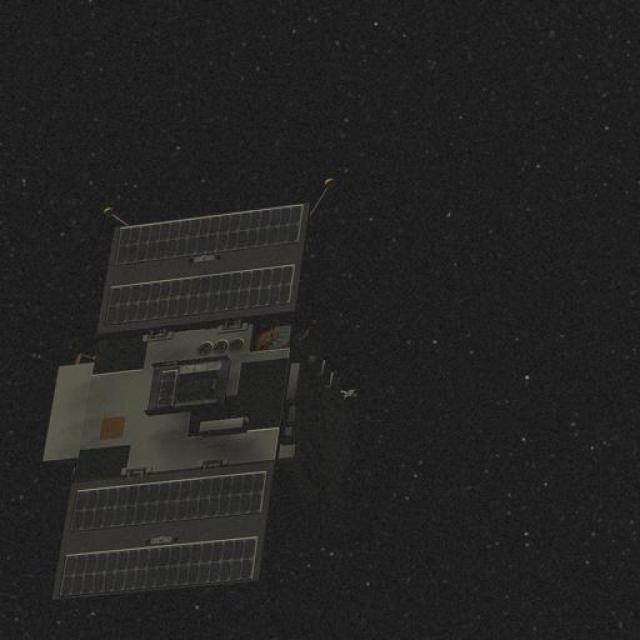proba_2: (43, 184, 336, 591)
